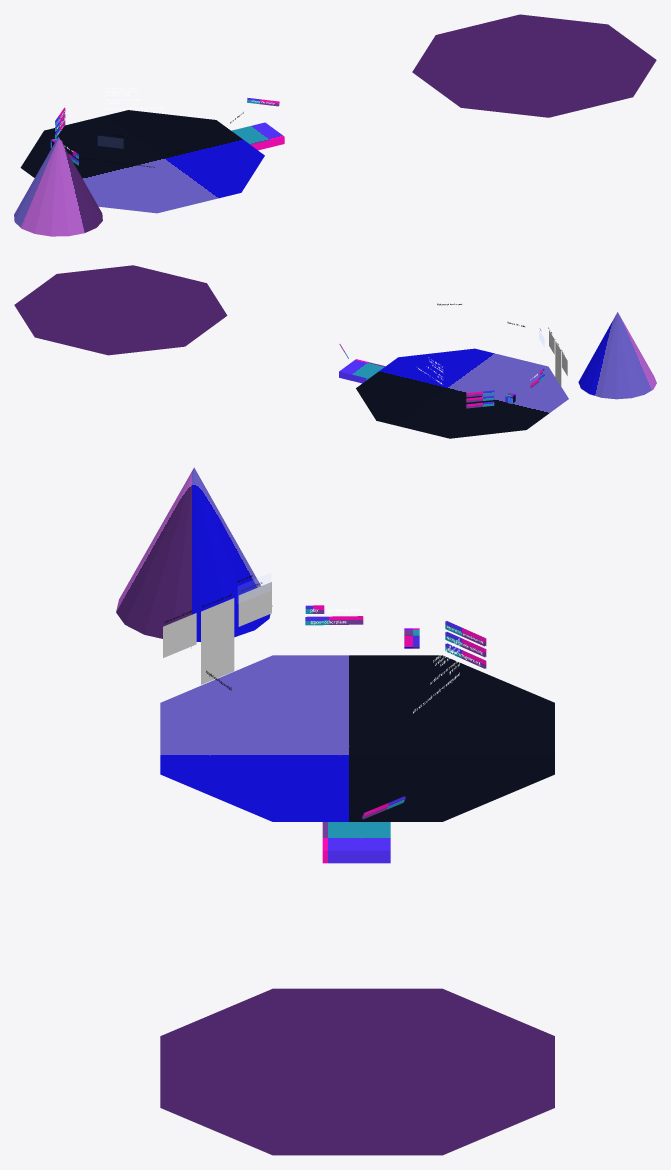
The model's file is example.glb.
The picture shows the model from 3 angles, top to bottom: view 1: azimuth 30°, elevation 25°; view 2: azimuth 150°, elevation 25°; view 3: azimuth 270°, elevation 25°; orthographic projection. The views are drawn at different scales.
Parts seen in each view (by area): view 1: otherplane, floor1, cone, platform; view 2: otherplane, floor1, cone, platform; view 3: otherplane, floor1, cone, platform, portal_to_remote_3D_model, lens_to_local_objects, lens_to_remote_3D_model.
Part boxes in pixels (left/top/right/bottom): otherplane: left=412, top=14, right=656, bottom=117; floor1: left=20, top=110, right=264, bottom=213; cone: left=14, top=136, right=102, bottom=236; platform: left=231, top=122, right=284, bottom=150; otherplane: left=14, top=265, right=227, bottom=355; floor1: left=356, top=348, right=568, bottom=438; cone: left=578, top=312, right=656, bottom=399; platform: left=339, top=359, right=385, bottom=383; otherplane: left=160, top=988, right=554, bottom=1155; floor1: left=160, top=655, right=554, bottom=821; cone: left=116, top=467, right=272, bottom=641; platform: left=322, top=822, right=390, bottom=863; portal_to_remote_3D_model: left=201, top=598, right=234, bottom=684; lens_to_local_objects: left=238, top=582, right=271, bottom=626; lens_to_remote_3D_model: left=163, top=613, right=196, bottom=657.
Size of what is drawn, in the model's own units: 46.22 by 6.6 by 15.27.
Materials: 6 (3 with a texture image).
